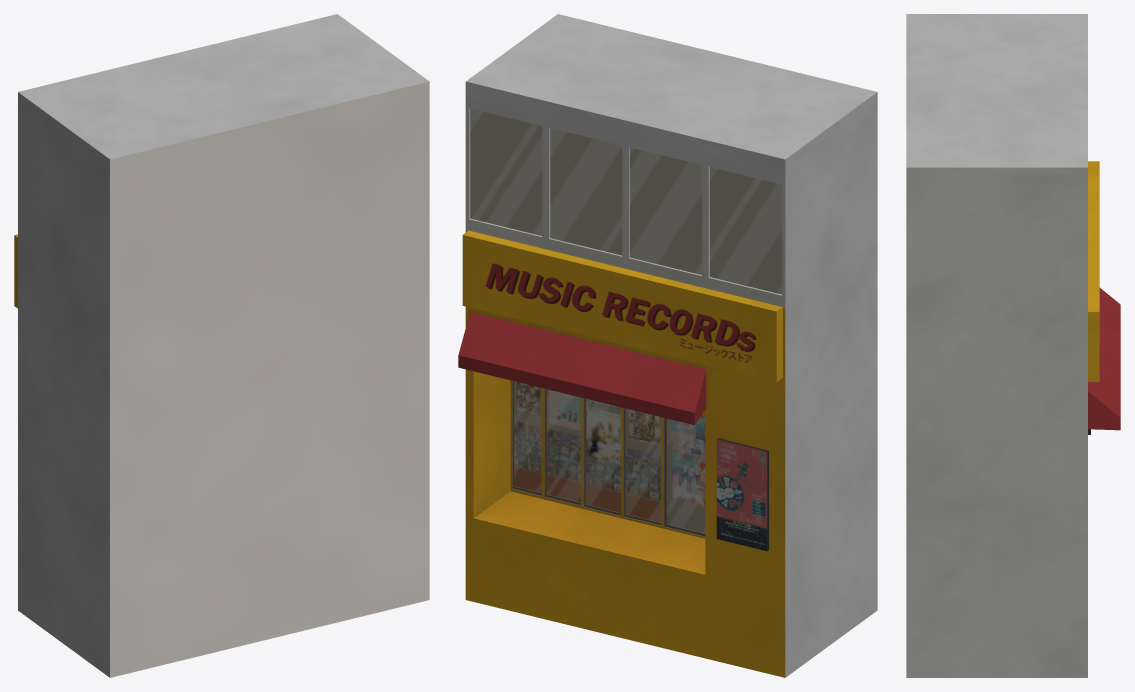
The model's file is shop04.dae.
3 renders of one model, left to right at view 1: azimuth 30°, elevation 25°; view 2: azimuth 150°, elevation 25°; view 3: azimuth 270°, elevation 25°, orthographic.
Parts seen in each view (by area): view 1: shop04; view 2: shop04; view 3: shop04.
Part boxes in pixels (<box>): shop04: <box>14,14,429,677</box>; shop04: <box>458,14,877,677</box>; shop04: <box>906,14,1120,677</box>.
Bounding box in the file's own units: 4 × 6.2 × 2.36.
